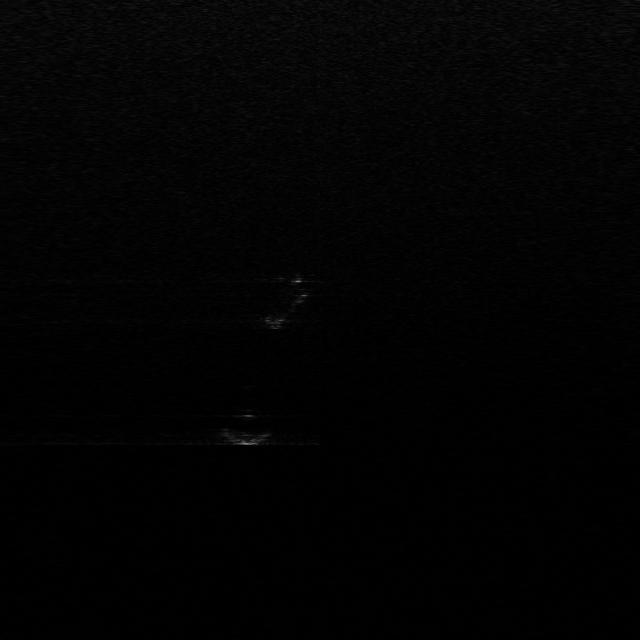ball: (214, 408, 276, 446)
tyre: (257, 270, 311, 330)
